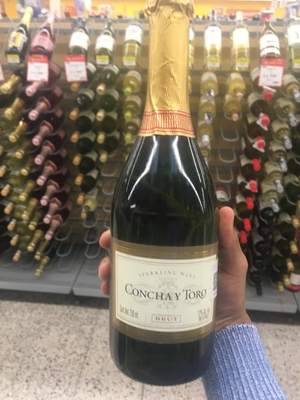brut: (107, 6, 225, 400)
